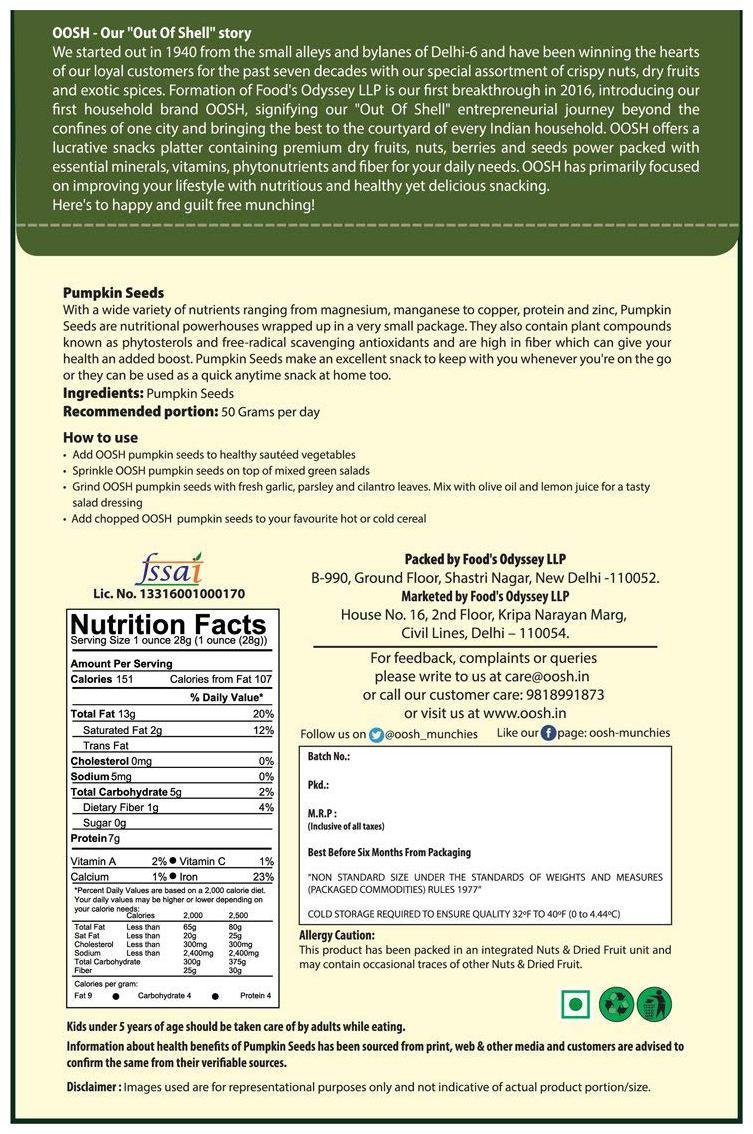fssai: (135, 551, 204, 588)
